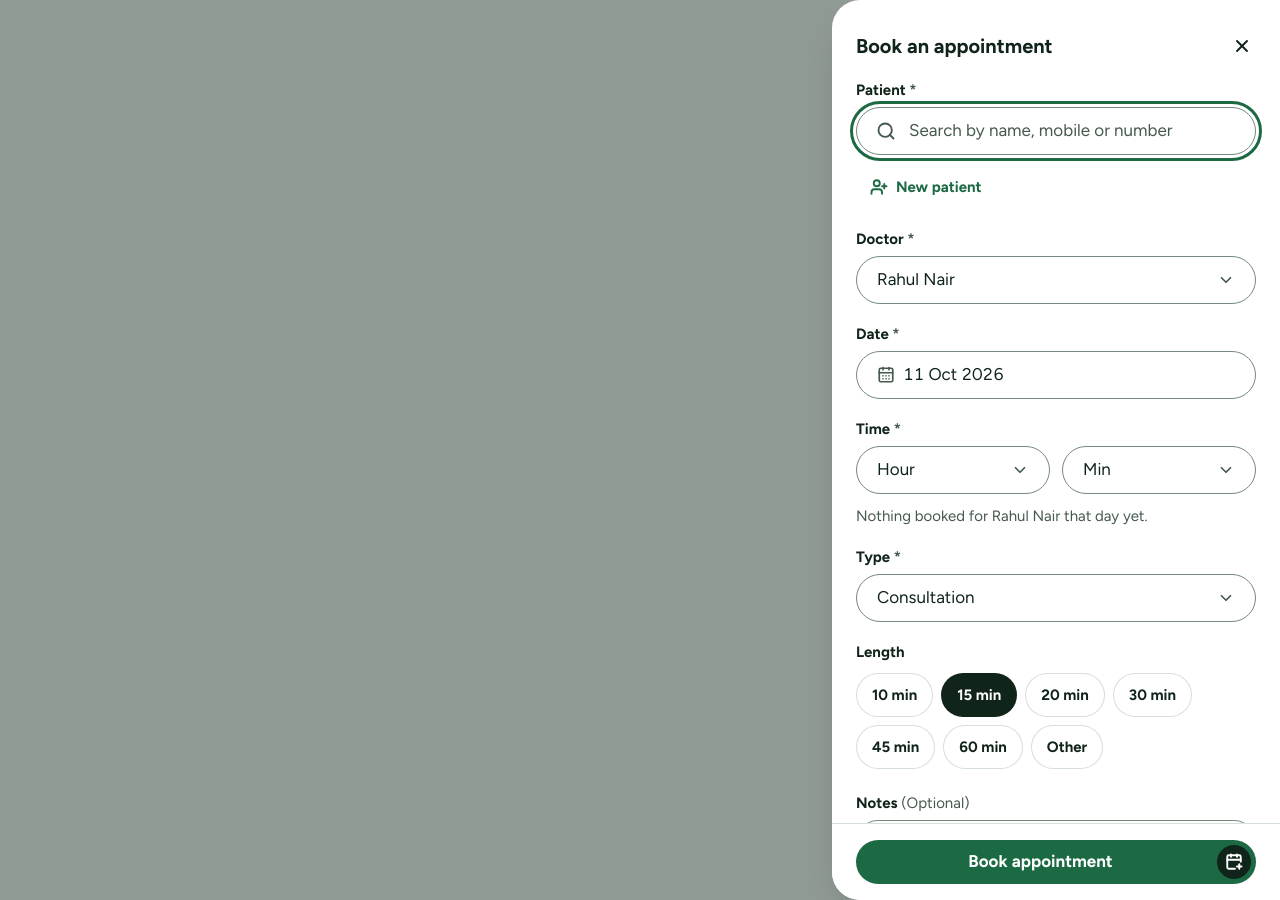
Scenario: BookingSheet (plan §11.1; D144 – D151) › starts a new patient's mobile from a mobile searched for (D112)
The width and height of the screenshot is (1280, 900).
Step 1. Type "98765 43210" into the search field → (1056, 131), box x1=856 y1=107 x2=1256 y2=155
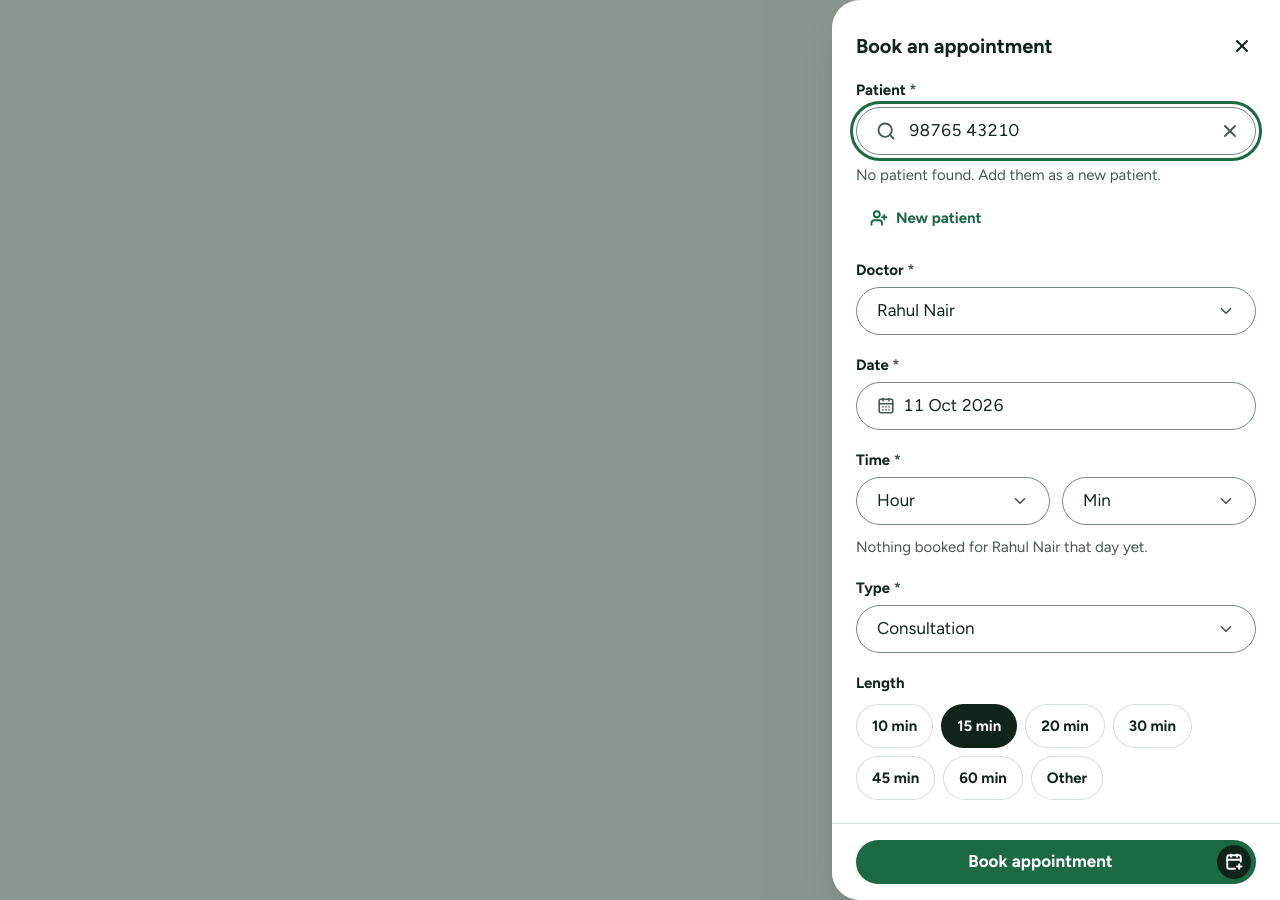
Step 2. Click the button "New patient" → (926, 218), box x1=856 y1=196 x2=996 y2=240
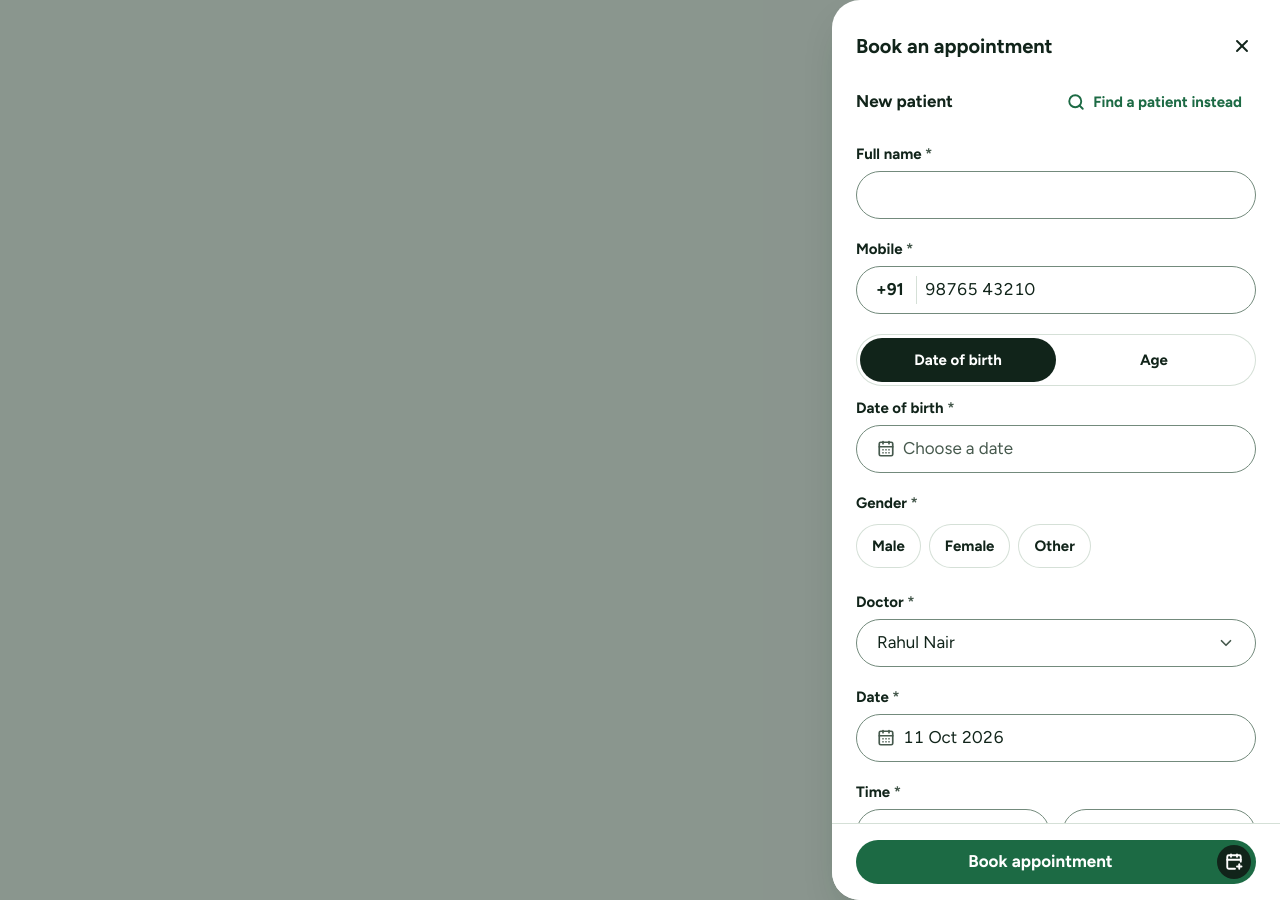
Expected: the field labelled "Mobile *" holds "98765 43210", x1=856 y1=266 x2=1256 y2=314
Expected: the field labelled "Full name *" is empty, x1=856 y1=171 x2=1256 y2=219
